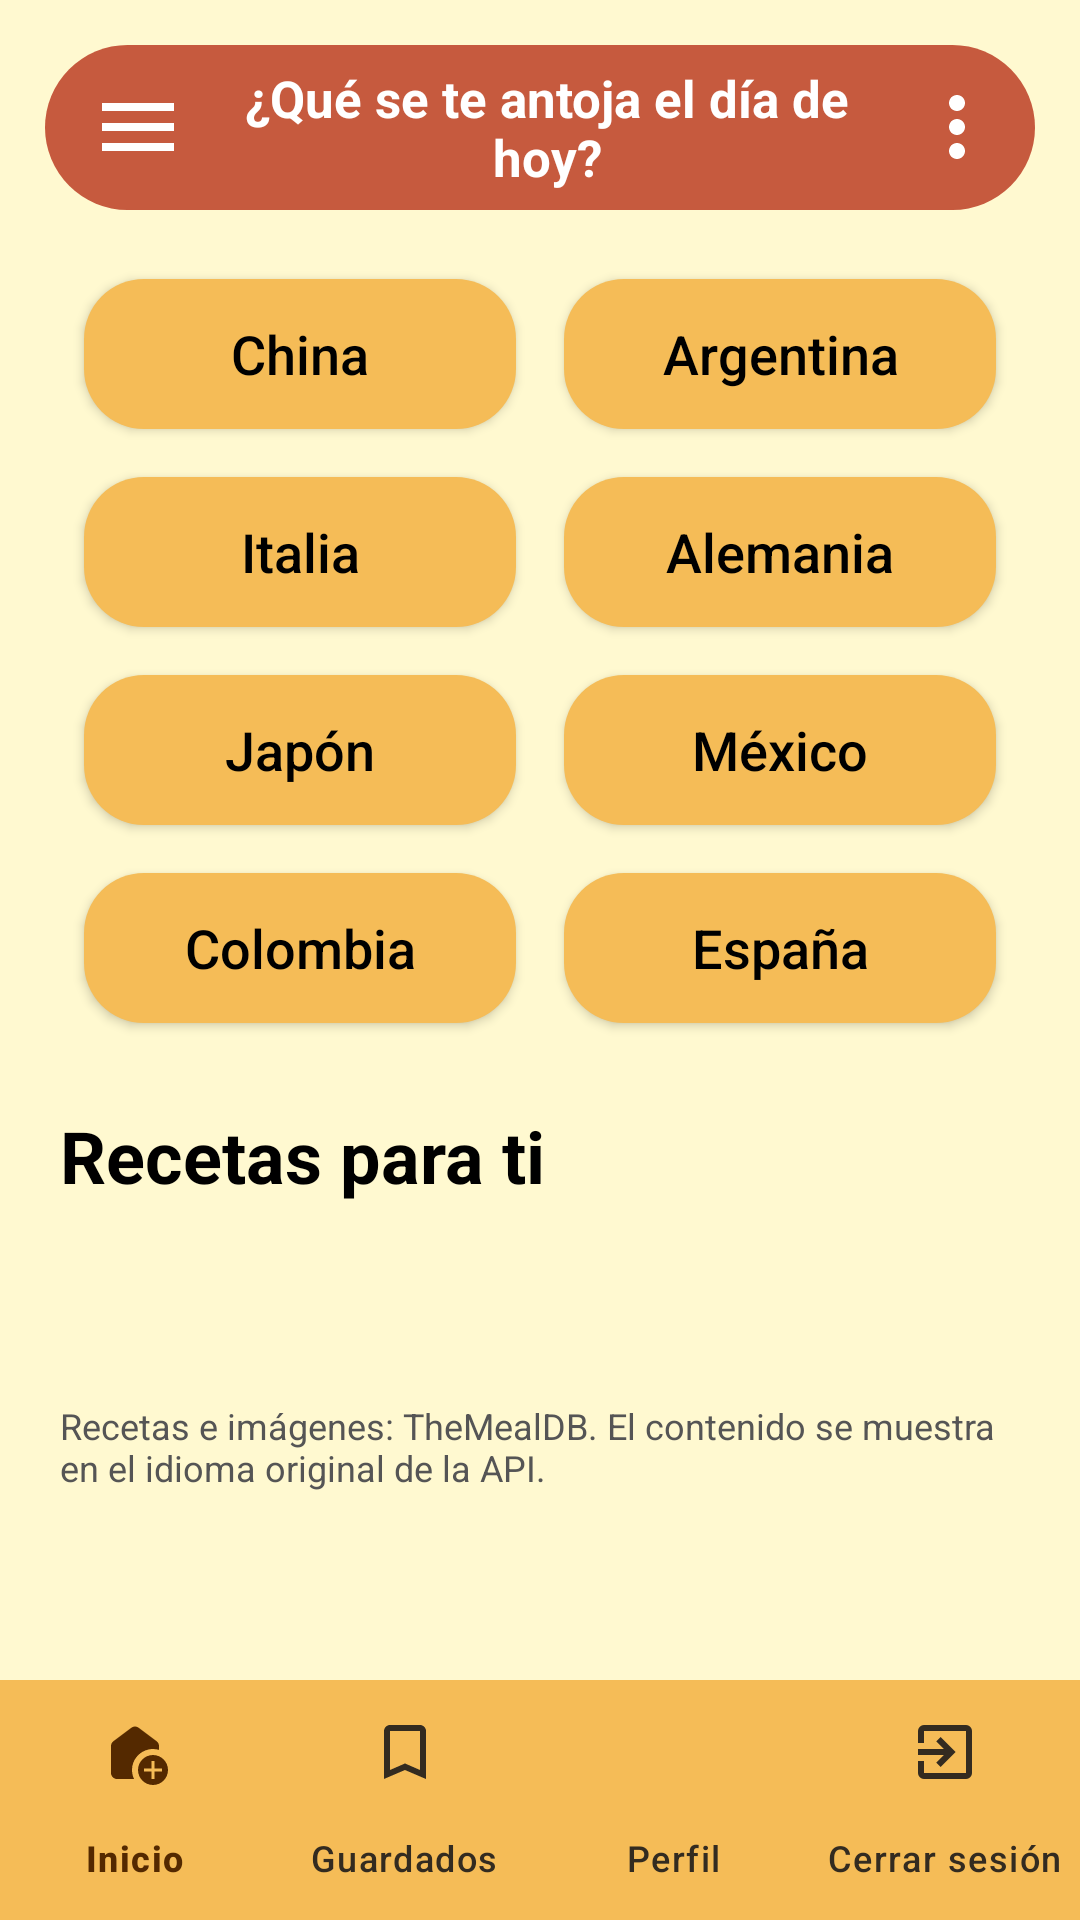

Screen size 1080x1920. Icon name, then its center in pixels as point (x, y):
mas opciones: point (957, 127)
menu: point (138, 127)
